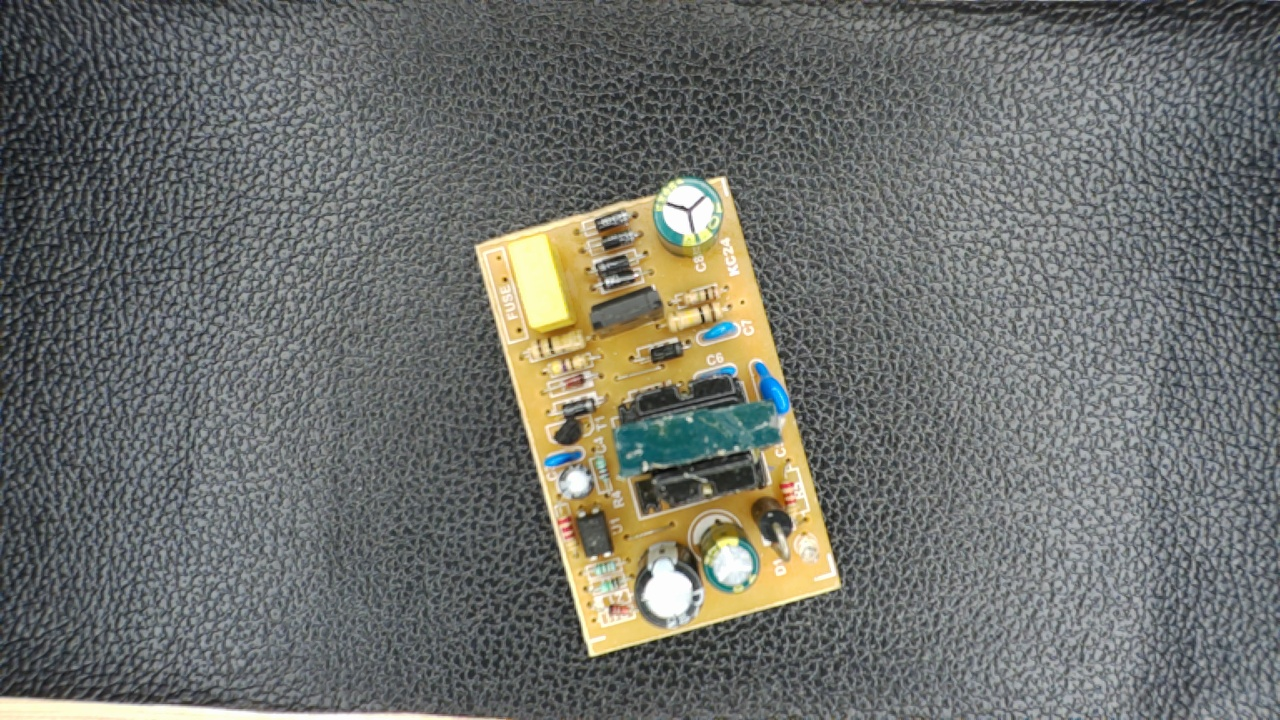hv_capacitor: (653, 180, 725, 258)
mov: (747, 357, 791, 423)
optocoupler: (570, 504, 617, 564)
